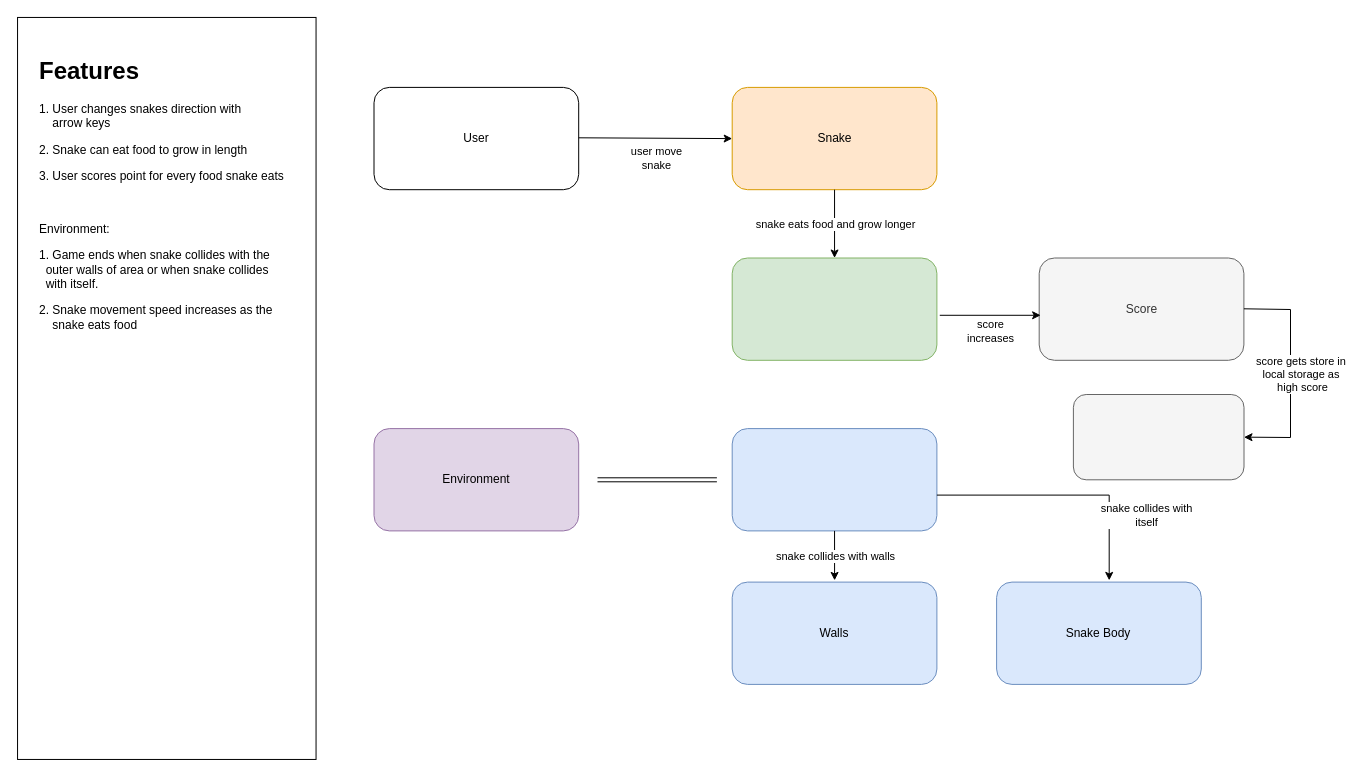
The diagram is 1366 pixels wide and 777 high, and some of its shapes have lost their labels. The centre of each missing label's shape, as x and y in pixels:
"Food" belongs at point (834, 308).
"Game Ends" belongs at point (834, 479).
"store score" belongs at point (1158, 437).
